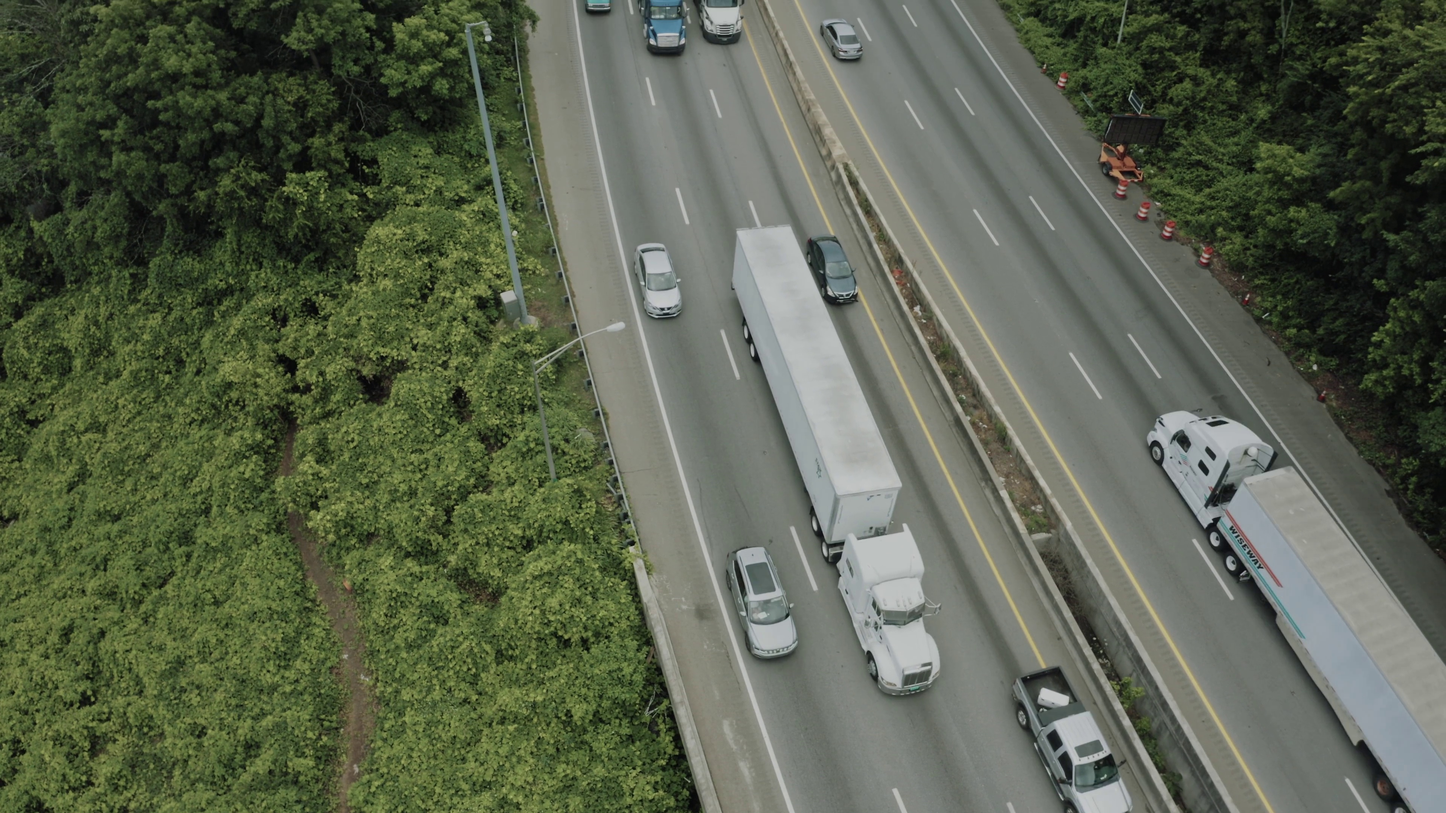Vehicle: (836, 523, 951, 697), (1011, 666, 1134, 813), (1146, 405, 1283, 534), (718, 540, 798, 665), (633, 243, 683, 319), (806, 234, 859, 305), (637, 0, 689, 55), (694, 0, 745, 45), (820, 18, 863, 60), (584, 0, 612, 13), (1205, 247, 1214, 268)
